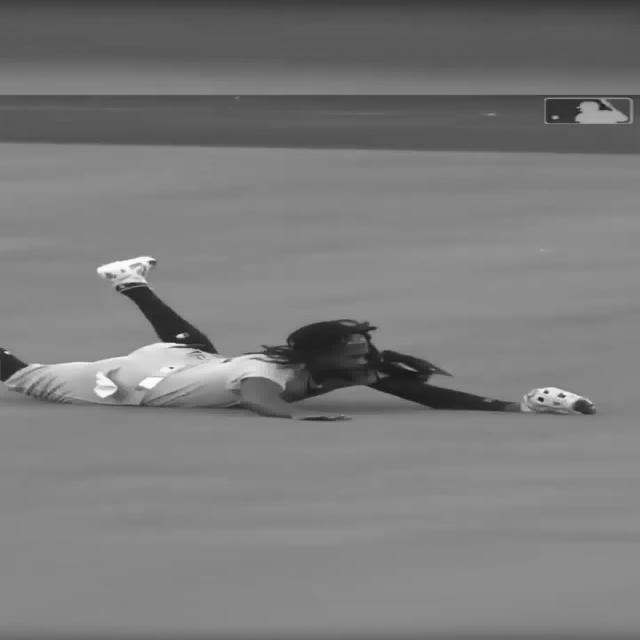baseball_glove: (516, 388, 593, 415)
shoe: (95, 253, 163, 280)
